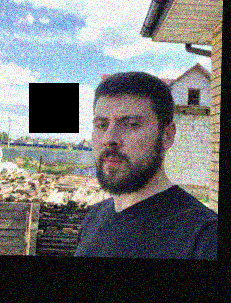without_mask: (90, 106, 153, 196)
